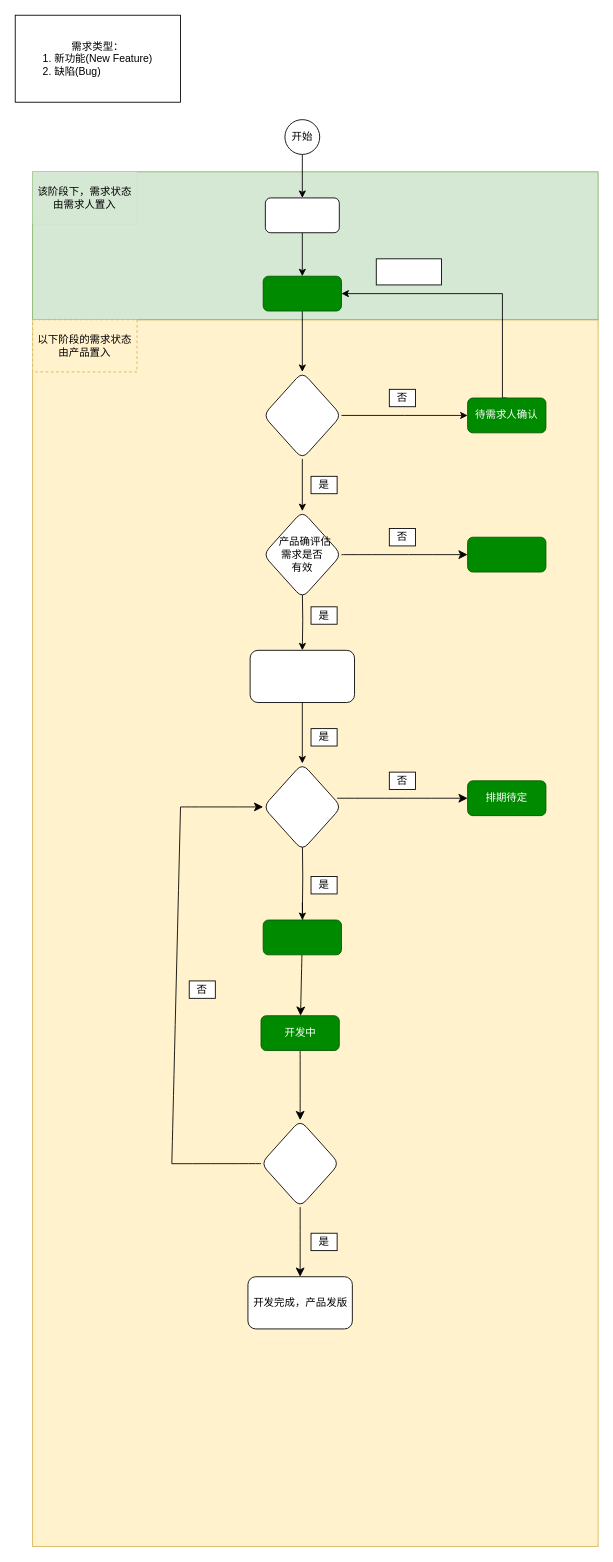
Image size: 613x1562. Some labels were removed from this diagram. The shapes that lost their labels are listed below. From the top down, each one's box as (x1, y1, x2, y2) in pixels, then its label:
(264, 197, 339, 233): 需求人 提交需求
(375, 258, 442, 285): 需求人重新 梳理需求
(262, 275, 341, 311): 待产品确认
(262, 371, 341, 459): 需求是否 清晰明确
(467, 536, 546, 572): 已拒绝
(249, 649, 355, 703): 产品内部评估工作量&影响范围
(262, 763, 341, 850): 是否可排期
(262, 919, 341, 955): 确定排期
(260, 1119, 339, 1207): 是否如期开发
